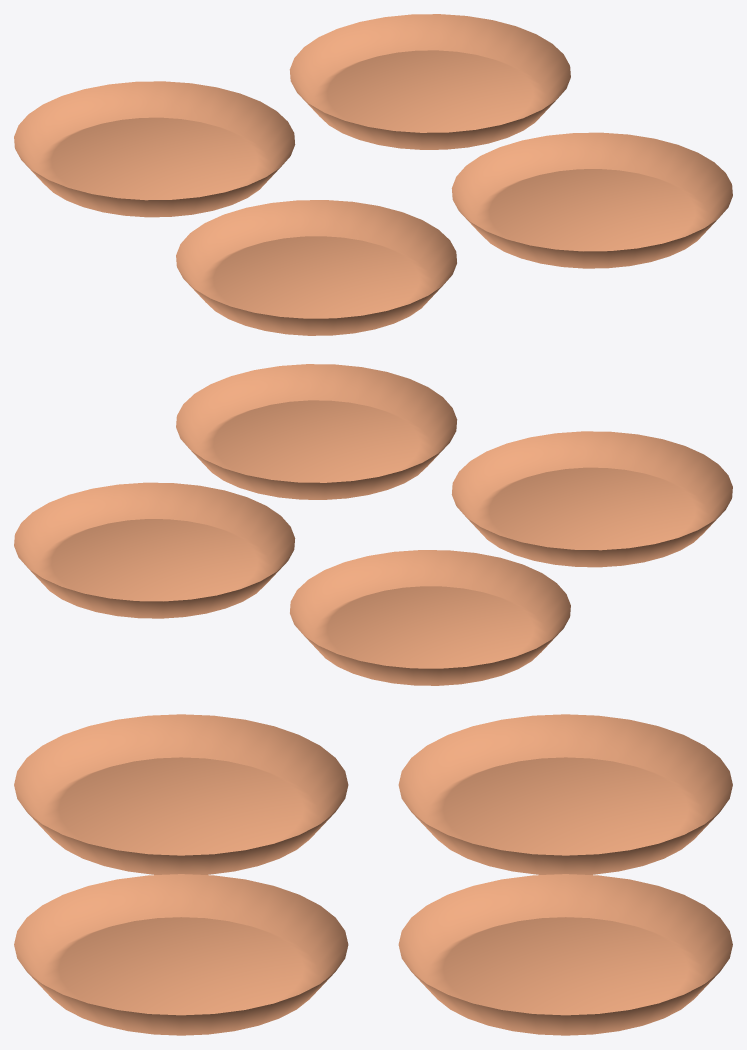
File: ContainerHolder.fbx
3 views of the same model, one above another, from view 1: azimuth 30°, elevation 25°; view 2: azimuth 150°, elevation 25°; view 3: azimuth 270°, elevation 25° (orthographic). The views are drawn at different scales.
Visible parts, largest first — view 1: ContainerHolder; view 2: ContainerHolder; view 3: ContainerHolder.
Part boxes in pixels (left/top/right/bottom): ContainerHolder: left=14, top=14, right=732, bottom=335; ContainerHolder: left=14, top=364, right=732, bottom=685; ContainerHolder: left=14, top=714, right=732, bottom=1035.
Bounding box in the file's own units: 36.33 × 1.82 × 36.66.
